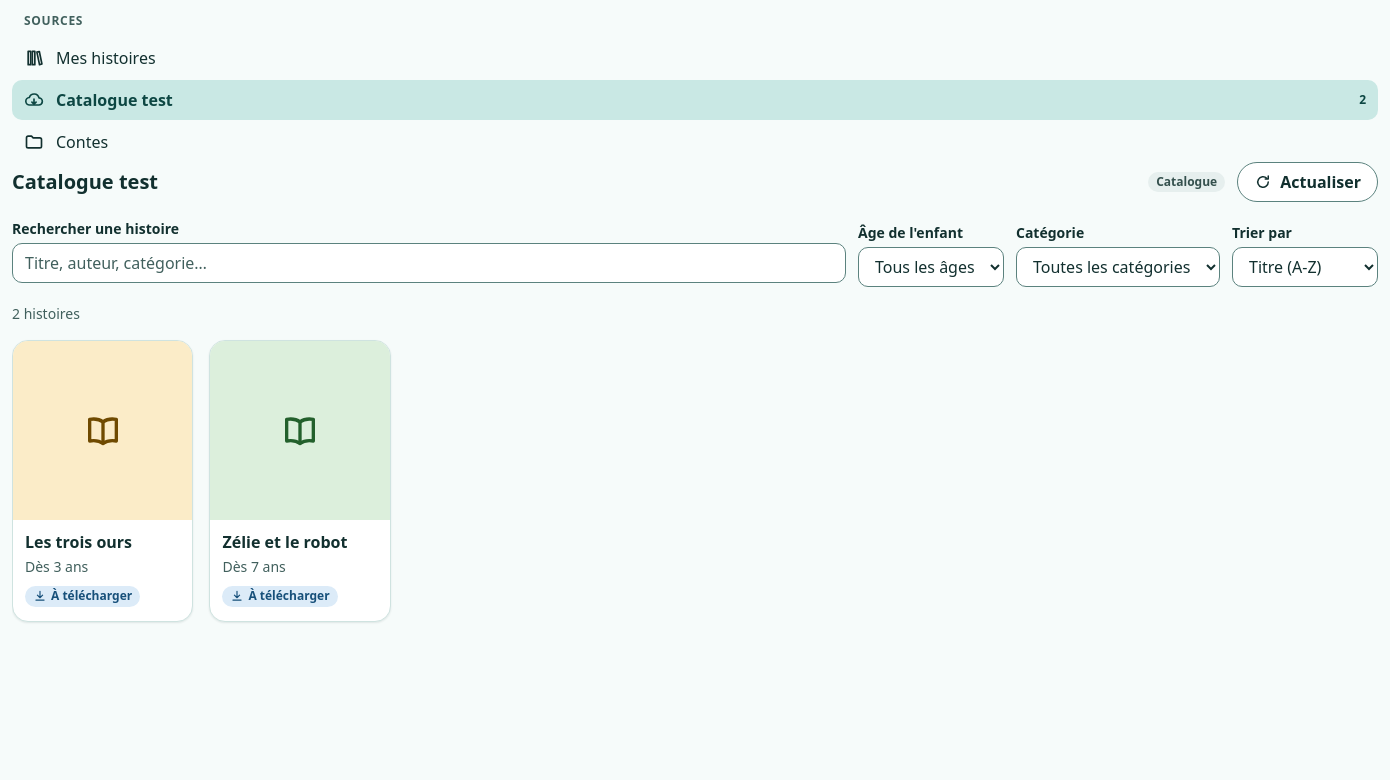
actualise à la demande et le confirme par une notification
expect the heading "Les trois ours" is shown: met, box 25,531 -> 132,553
Click the button "Actualiser".
click(1308, 182)  # box 1237,162 -> 1378,202
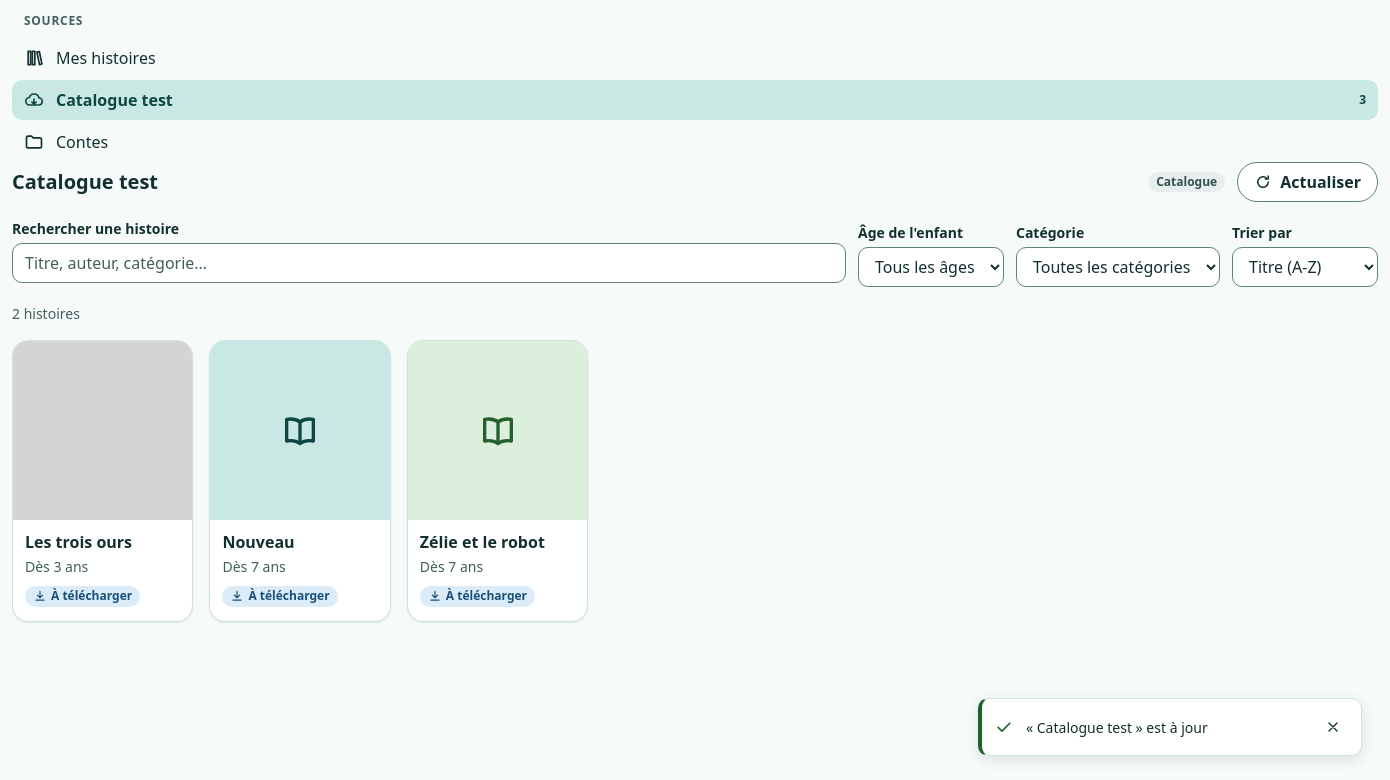
expect the heading "Nouveau" is shown: met, box 222,531 -> 295,553
expect the text "« Catalogue test » est à jour" is shown: met, box 1026,718 -> 1208,737
